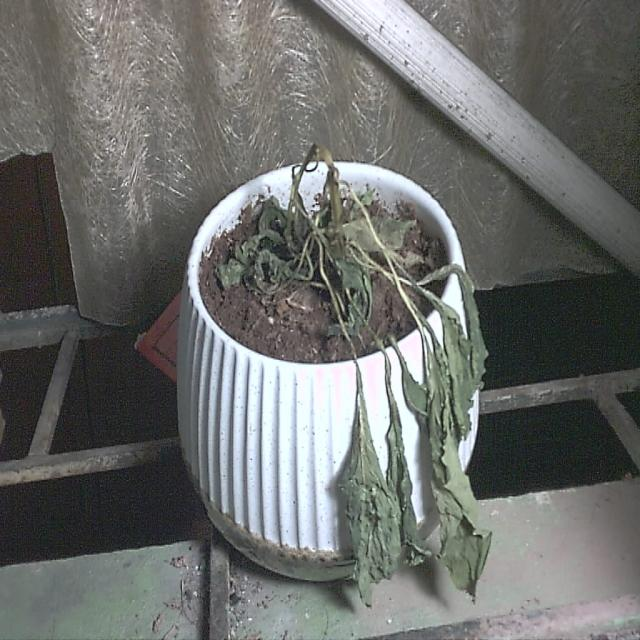Leaf: (422, 334, 497, 612), (259, 208, 404, 306), (341, 373, 401, 609), (439, 304, 478, 439), (464, 279, 490, 400)
